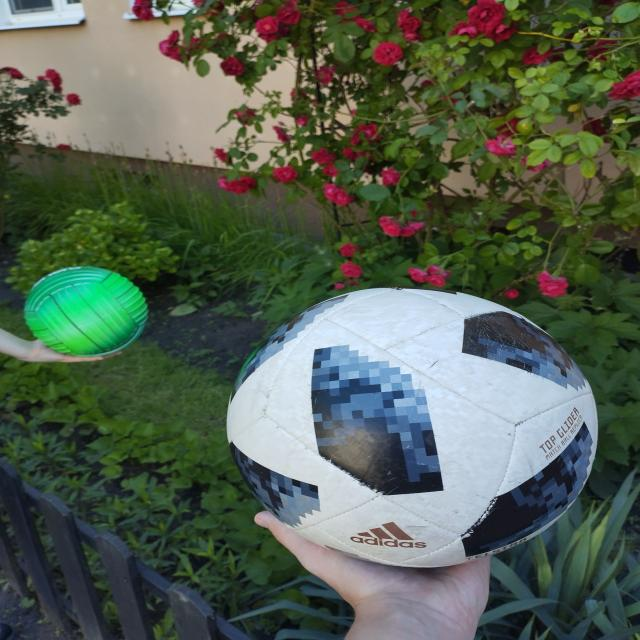nozna: (226, 285, 599, 568)
zielona: (24, 266, 149, 357)
